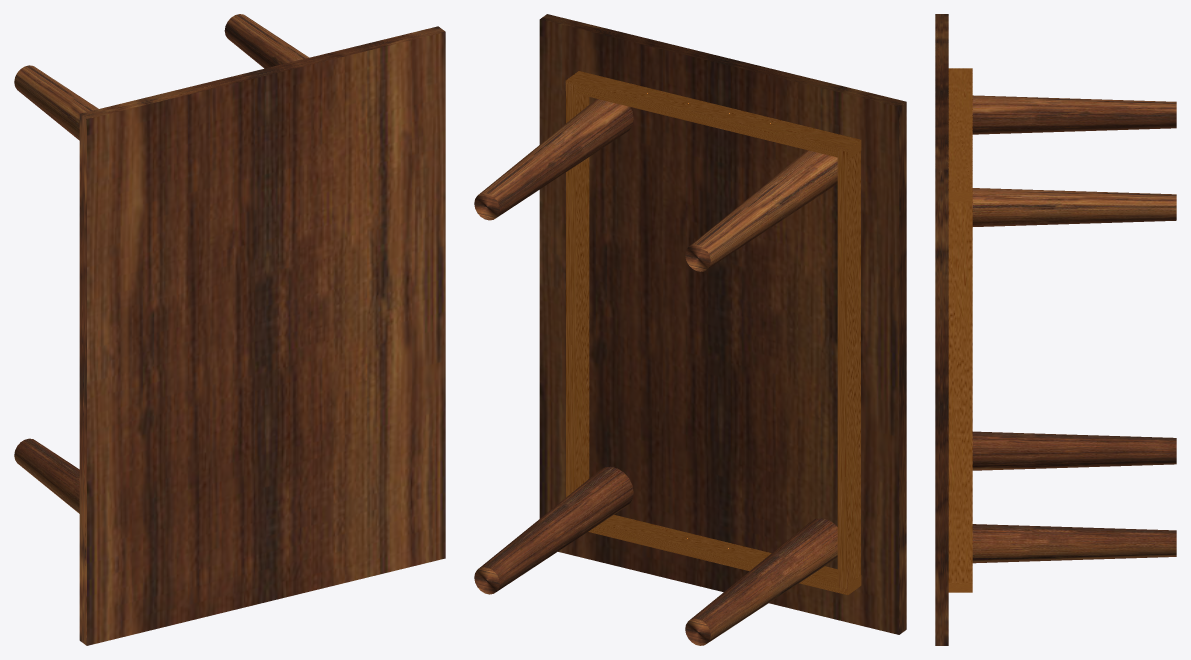
File: table2_2.obj
The picture shows the model from 3 angles, left to right: view 1: azimuth 30°, elevation 25°; view 2: azimuth 150°, elevation 25°; view 3: azimuth 270°, elevation 25°; orthographic projection. The views are drawn at different scales.
Bounding box in the file's own units: 18.05 × 25.33 × 11.69.
2 materials, 2 textured.
